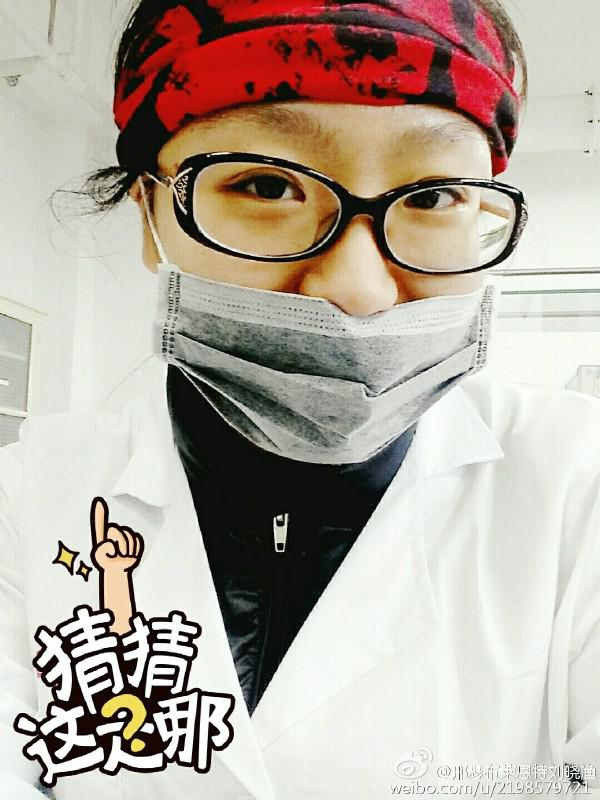WRONG: (167, 87, 485, 471)
